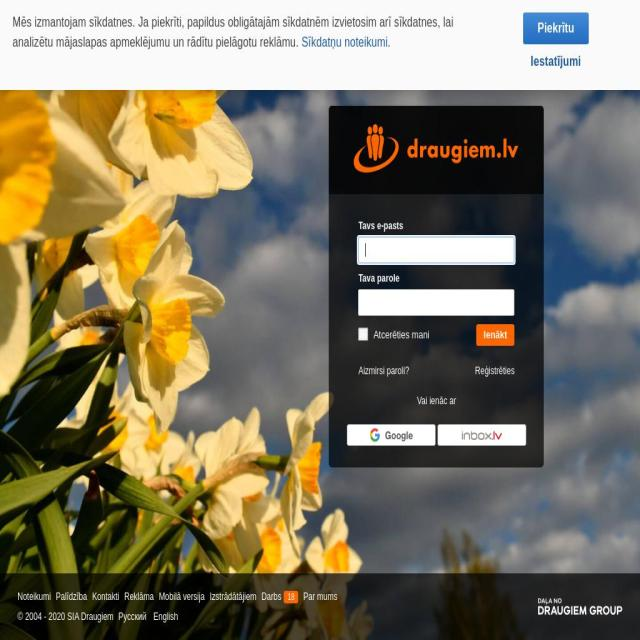button: (522, 12, 588, 46), (522, 13, 588, 44), (530, 46, 582, 77), (476, 324, 515, 348), (476, 324, 515, 346), (358, 364, 409, 378), (209, 590, 257, 603), (159, 590, 205, 603), (475, 364, 515, 378), (303, 590, 338, 603), (18, 590, 52, 603), (56, 590, 88, 603), (124, 590, 154, 603), (118, 610, 147, 623), (92, 590, 120, 603), (153, 610, 179, 623), (261, 590, 282, 603)
field: (359, 238, 514, 262), (359, 291, 514, 315)
image: (329, 106, 544, 194), (346, 424, 436, 446), (437, 424, 527, 446), (538, 598, 623, 615), (358, 327, 369, 341)
link: (301, 35, 388, 49)
text: (12, 15, 456, 49), (346, 394, 528, 424), (18, 610, 114, 623), (373, 328, 430, 341), (358, 220, 404, 232), (358, 273, 400, 284), (284, 591, 298, 603), (388, 35, 392, 49)
